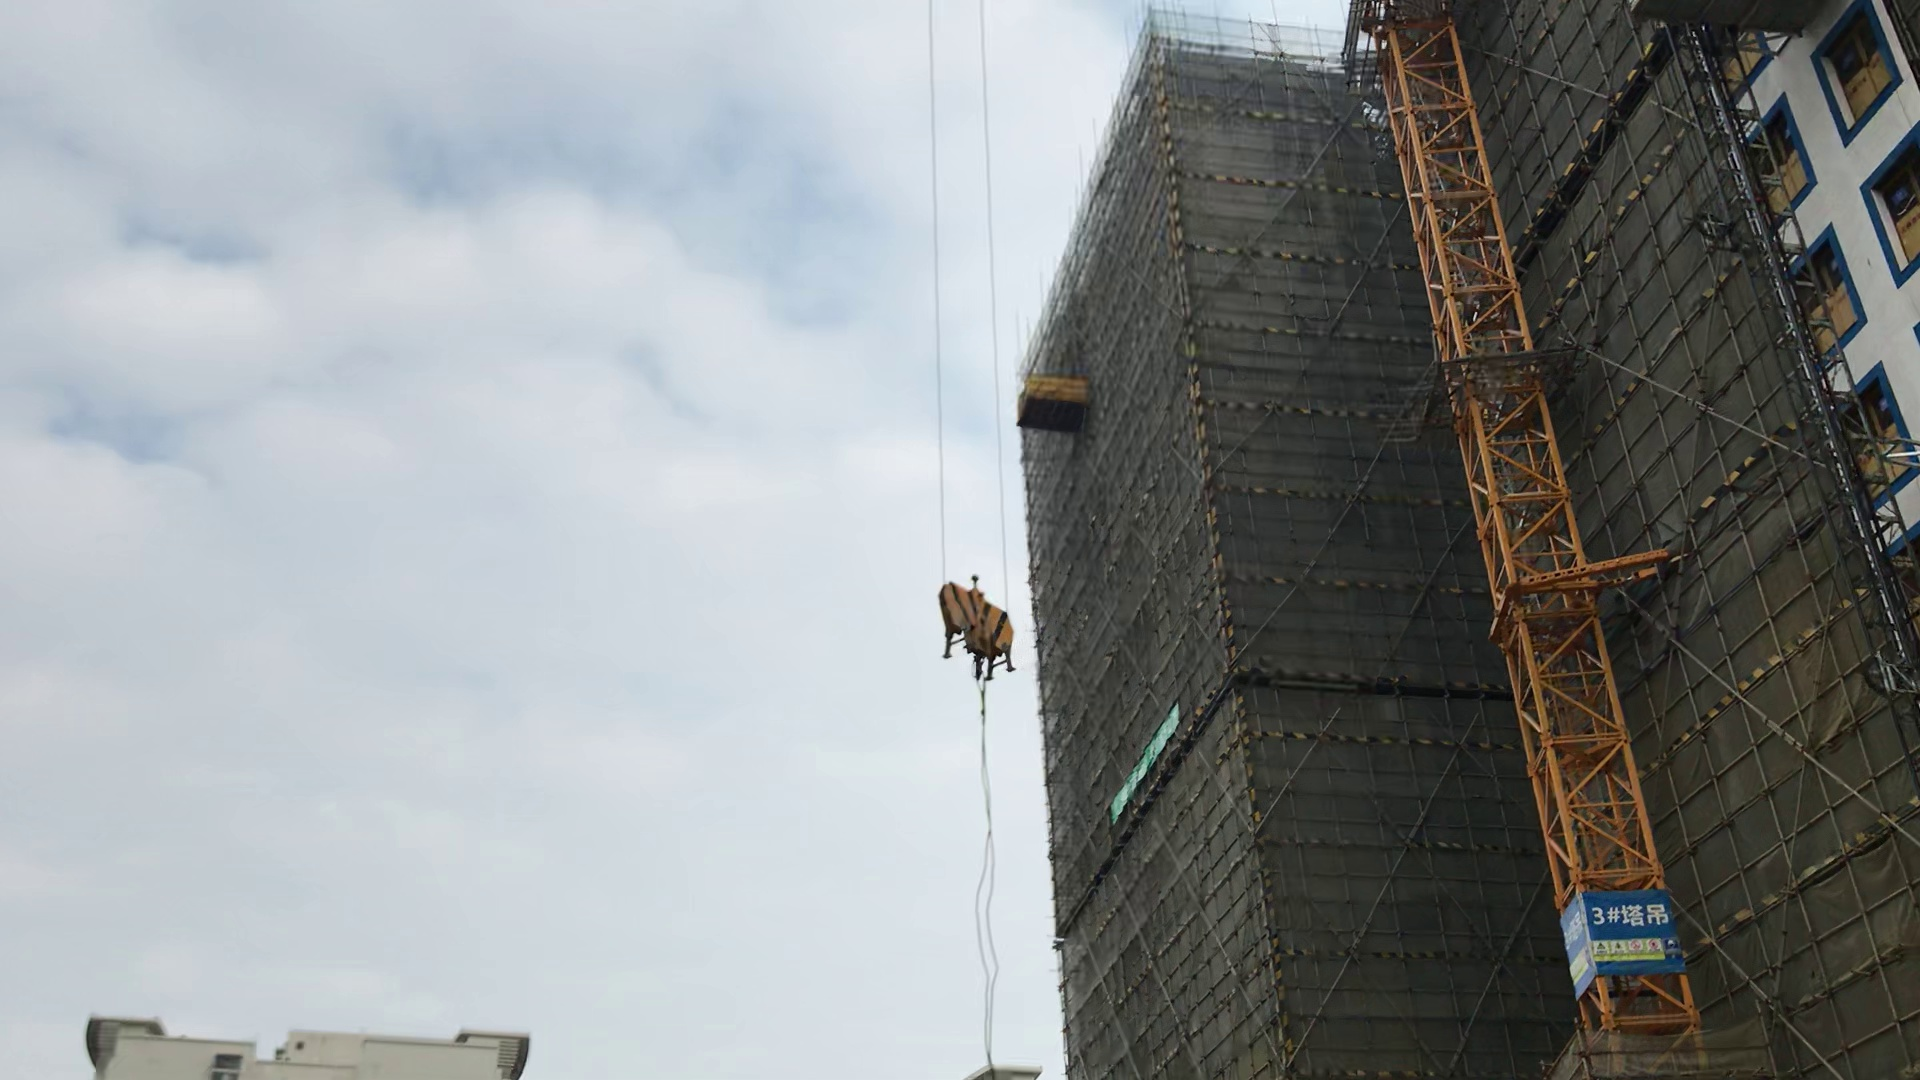hook: (928, 559, 1030, 687)
slogan: (1112, 704, 1182, 819)
